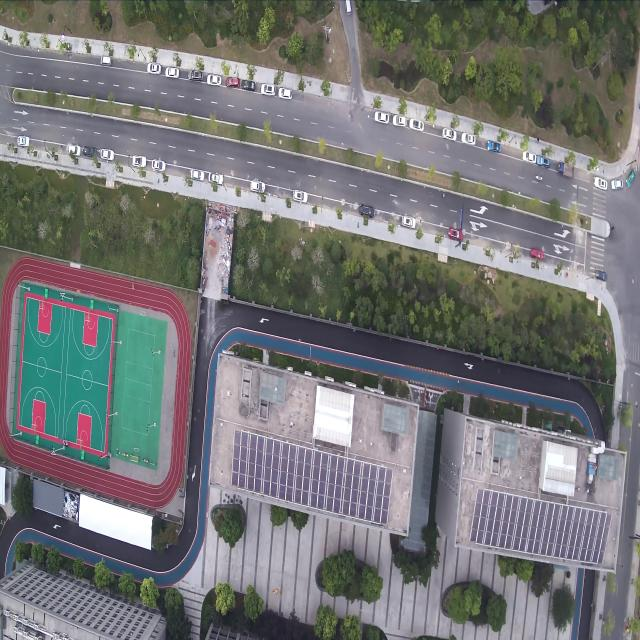UAV: (298, 338, 302, 344)
